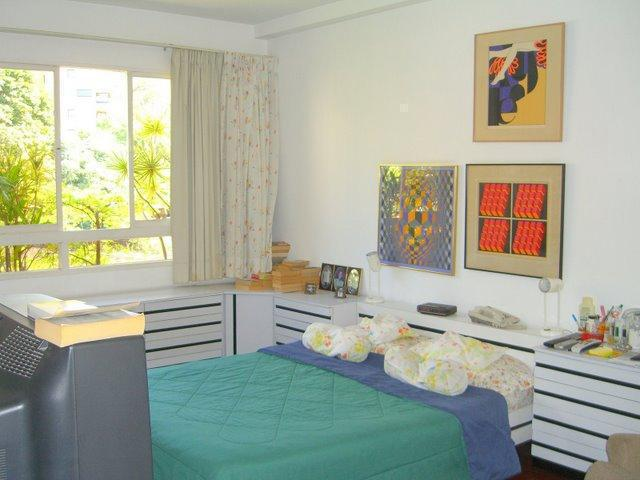Cama: (150, 326, 538, 478)
Electrodomestico: (3, 300, 150, 479)
Ventana: (7, 44, 211, 281)
